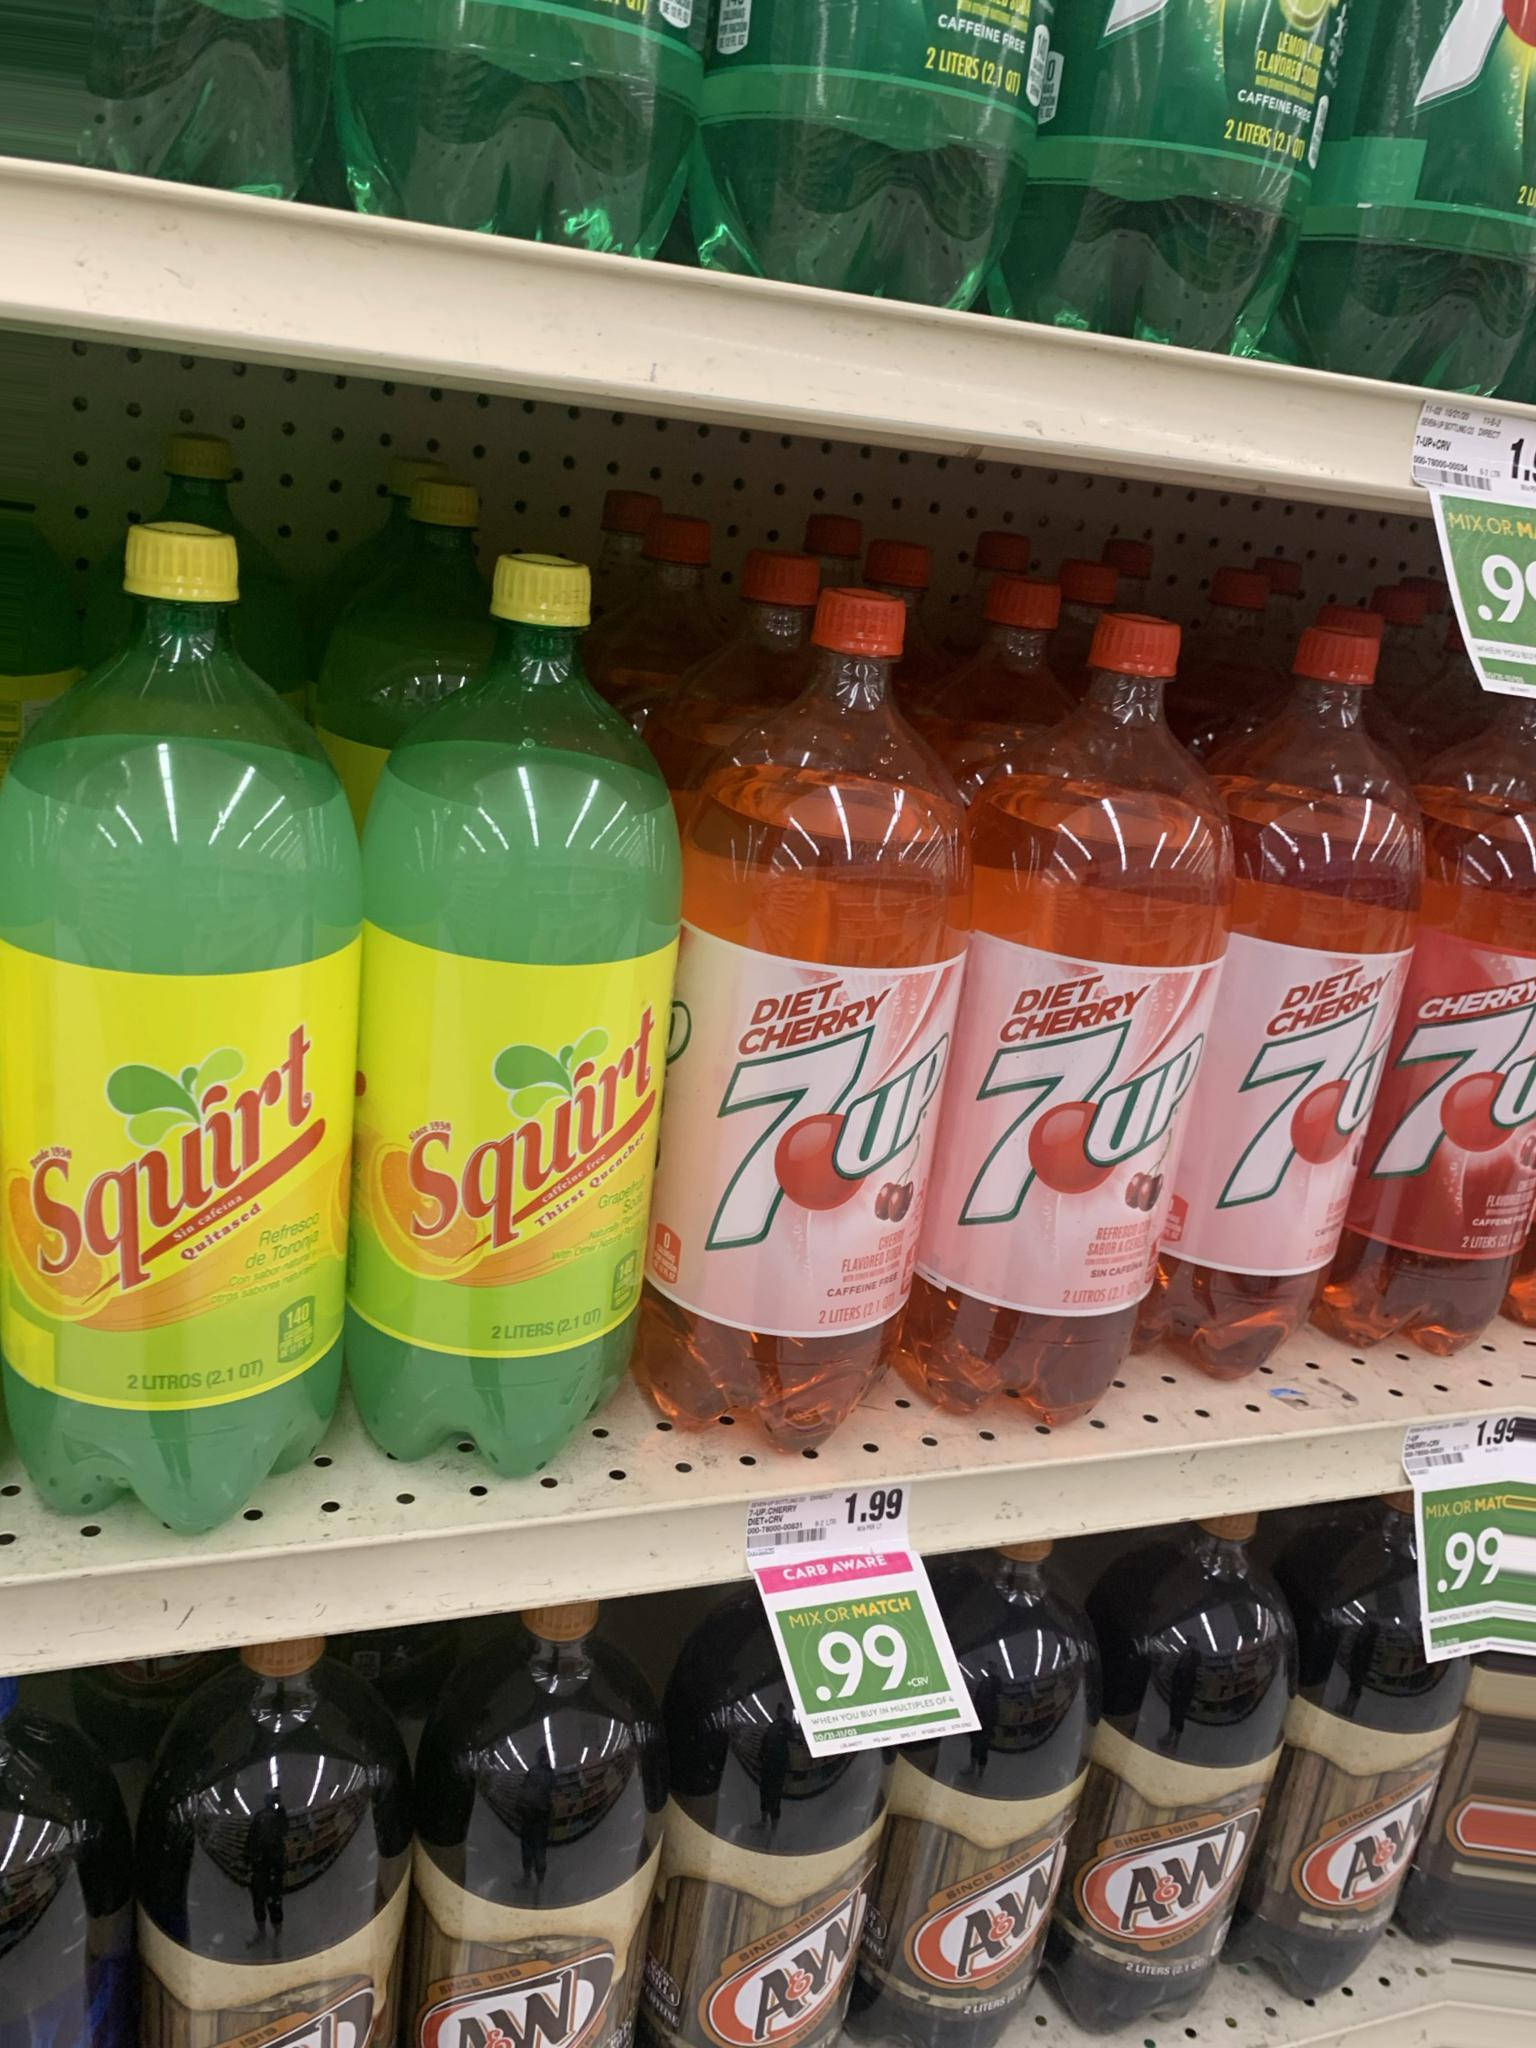soda: (24, 553, 344, 1521), (376, 558, 649, 1429), (691, 590, 921, 1438), (978, 614, 1181, 1403), (1205, 618, 1405, 1388), (1300, 1505, 1483, 2025), (173, 1638, 402, 2038), (432, 1634, 653, 2048), (666, 1585, 849, 2038), (895, 1564, 1066, 2038), (1099, 1529, 1257, 2016)
